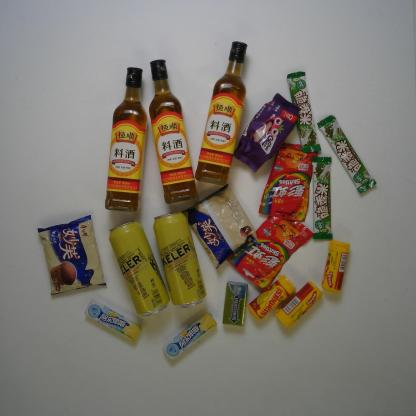Alcohol: (107, 218, 171, 318), (151, 208, 208, 310)
Candy: (225, 214, 316, 293), (257, 140, 319, 224), (161, 310, 219, 363), (82, 299, 143, 343), (273, 278, 324, 330), (245, 273, 298, 323), (320, 239, 352, 294)
Chocolate: (316, 114, 378, 194), (285, 70, 323, 155), (310, 155, 335, 241)
Dessert: (180, 181, 259, 271), (35, 212, 110, 298), (232, 90, 301, 175)
Gum: (221, 279, 250, 328)
Seasoner: (193, 38, 249, 188), (146, 58, 200, 206), (102, 66, 150, 214)
